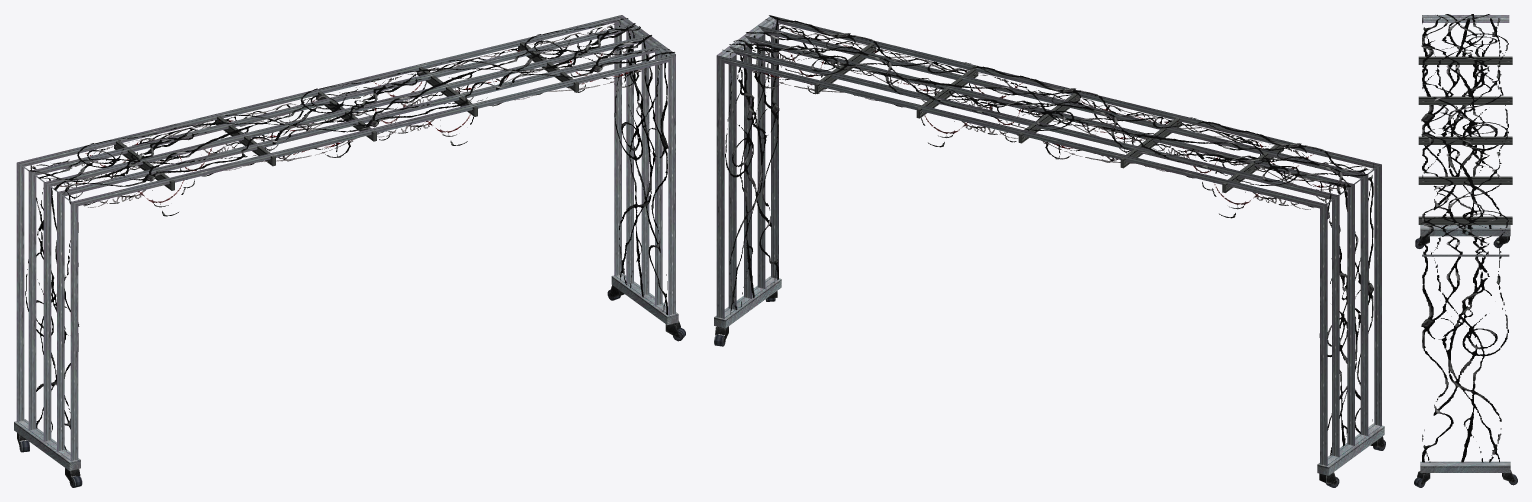
Rendered from computer_rack_wall.fbx.
3 renders of one model, left to right at view 1: azimuth 30°, elevation 25°; view 2: azimuth 150°, elevation 25°; view 3: azimuth 270°, elevation 25°, orthographic. The views are drawn at different scales.
Parts seen in each view (by area): view 1: mesh_0, mesh_1; view 2: mesh_0, mesh_1; view 3: mesh_1, mesh_0.
Part boxes in pixels (bbox=[...]): mesh_0: bbox=[14, 15, 685, 487]; mesh_1: bbox=[25, 18, 674, 450]; mesh_0: bbox=[714, 16, 1385, 487]; mesh_1: bbox=[722, 15, 1373, 455]; mesh_1: bbox=[1421, 14, 1508, 462]; mesh_0: bbox=[1414, 15, 1517, 487].
Bounding box in the file's own units: 611 × 270 × 110.
2 materials, 2 textured.
